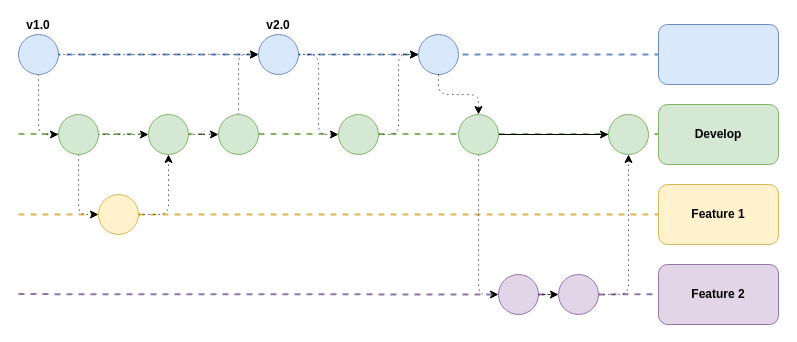
Some shapes in this 797 by 342 pixel diagram are drawn without their labels. The box of each missing label's shape, as (x1, y1, x2, y2) in pixels:
Master: (658, 24, 778, 84)
v3.0: (418, 34, 458, 74)
